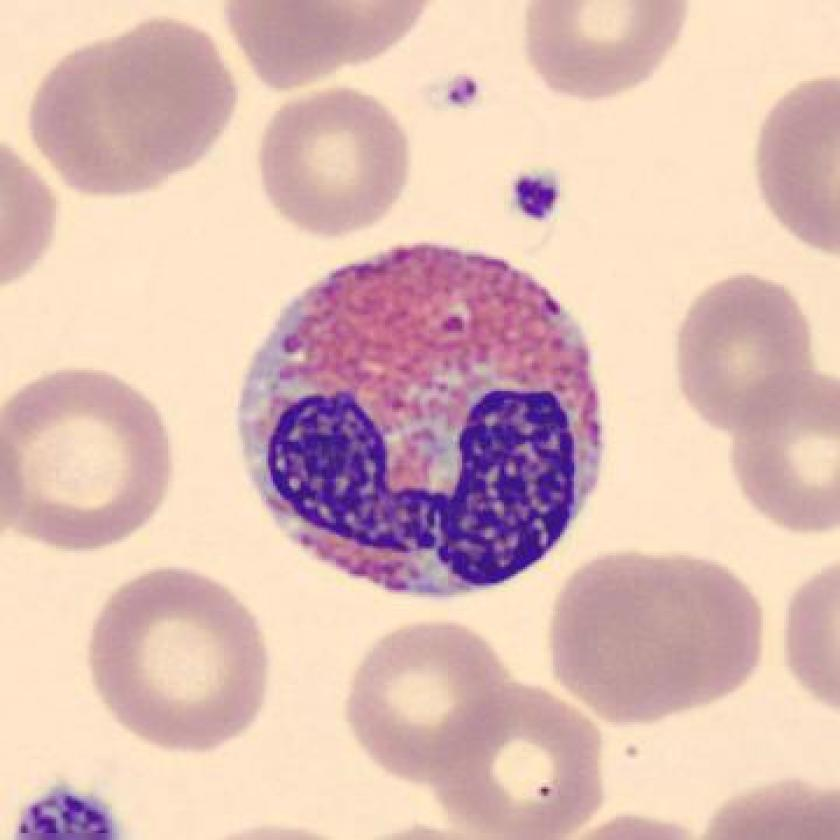eosinophil: (220, 237, 617, 614)
